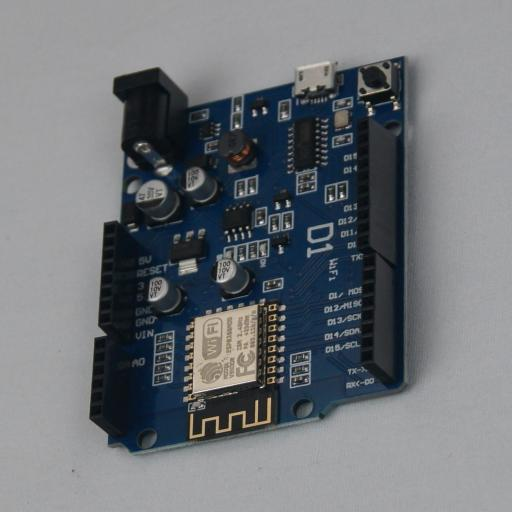Arduino Uno WiFi Shield: (89, 56, 418, 456)
